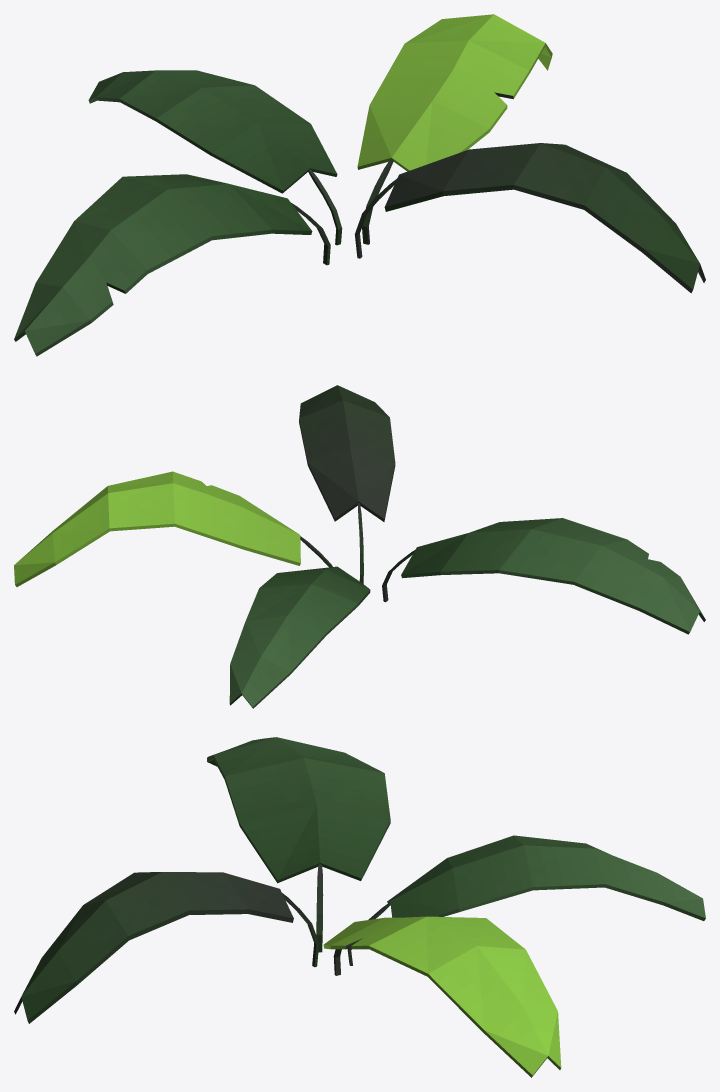
Rendered from samambaia_b.glb.
3 views of the same model, one above another, from view 1: azimuth 30°, elevation 25°; view 2: azimuth 150°, elevation 25°; view 3: azimuth 270°, elevation 25° (orthographic). The views are drawn at different scales.
Parts seen in each view (by area): view 1: FernDClusterVariantB; view 2: FernDClusterVariantB; view 3: FernDClusterVariantB.
Boxes of the visible parts, x1,y1,x2,y2 form: FernDClusterVariantB: (14, 14, 705, 356); FernDClusterVariantB: (14, 385, 705, 708); FernDClusterVariantB: (14, 737, 705, 1077).
Bounding box in the file's own units: 1.64 × 0.3448 × 1.52.
Materials: 1 (1 with a texture image).
